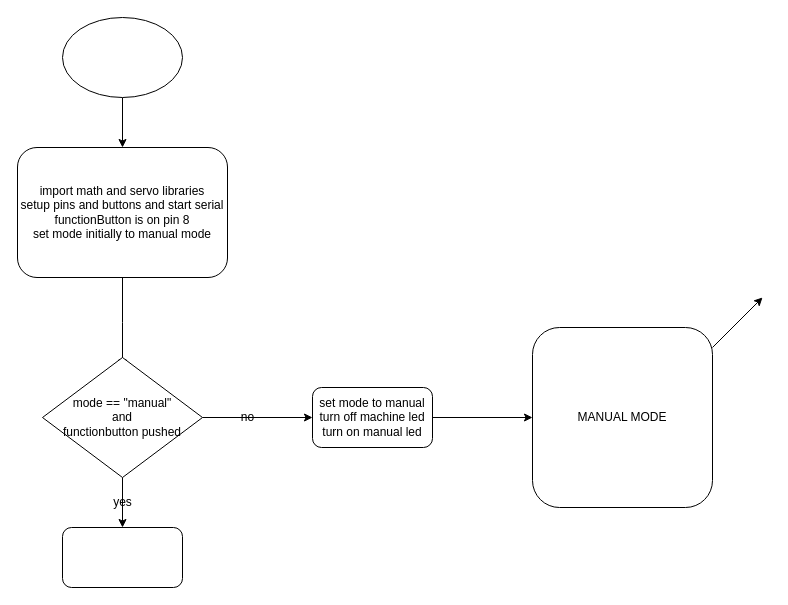
Some shapes in this 788 by 605 pixel diagram are drawn without their labels. Each missing label, with the box of its shape:
set mode to machine turn off manual led turn on machine led invoke machine(): (62, 526, 182, 588)
start: (62, 16, 182, 98)
